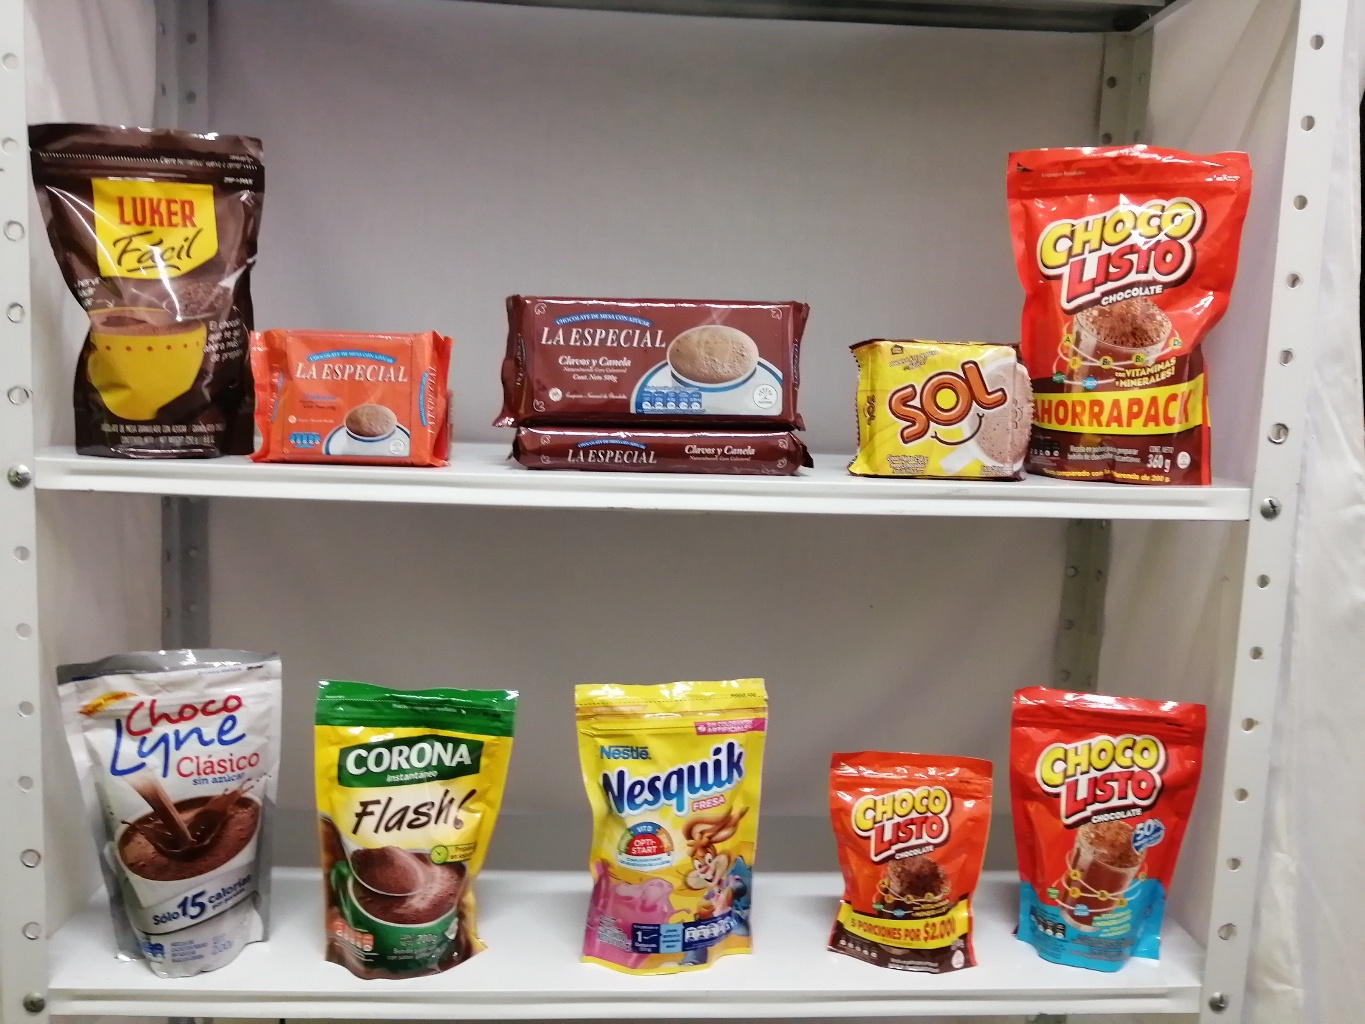COL0170103DYP36000: (996, 134, 1271, 483)
COL0170104DYP20000: (983, 663, 1225, 979)
COL0170305DYP20000: (564, 666, 774, 977)
